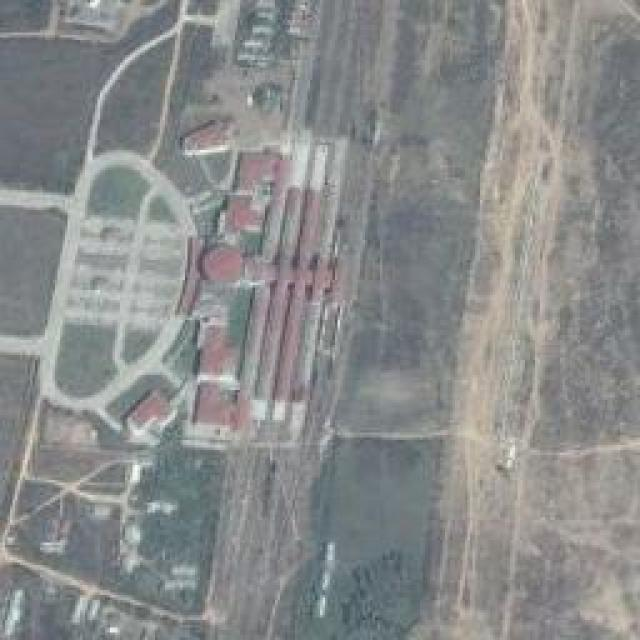Agriculture: (2, 0, 640, 638)
